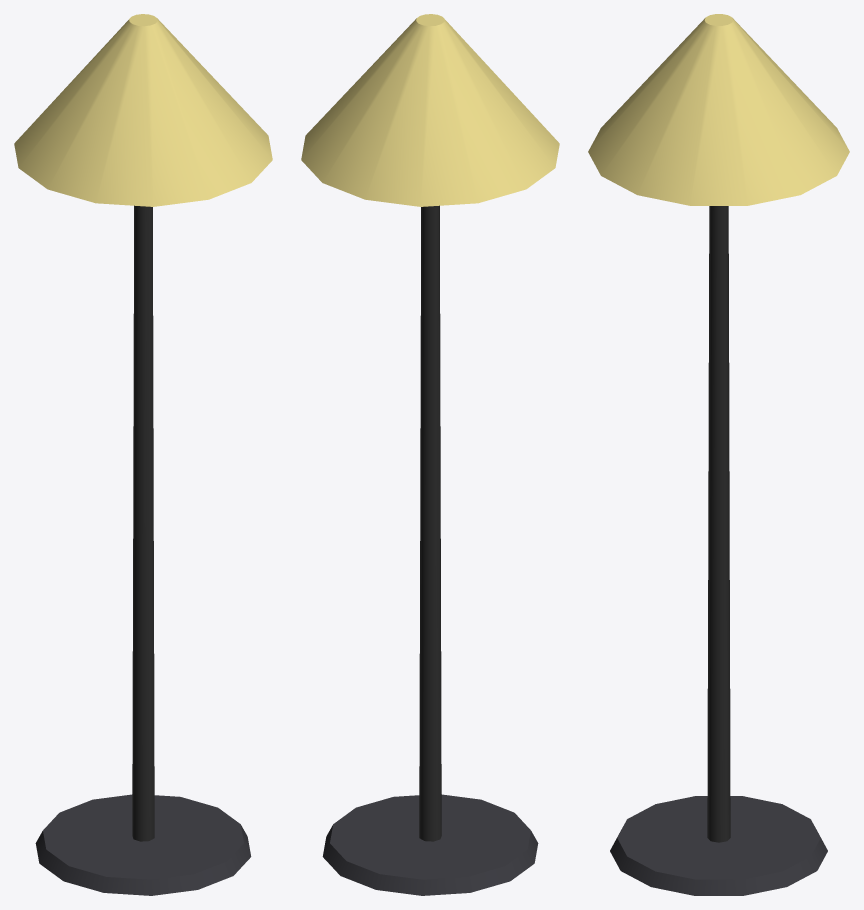
The model's file is floor-lamp.glb.
The picture shows the model from 3 angles, left to right: view 1: azimuth 30°, elevation 25°; view 2: azimuth 150°, elevation 25°; view 3: azimuth 270°, elevation 25°; orthographic projection.
Size of the model in its own units: 0.351 by 1.26 by 0.36.
